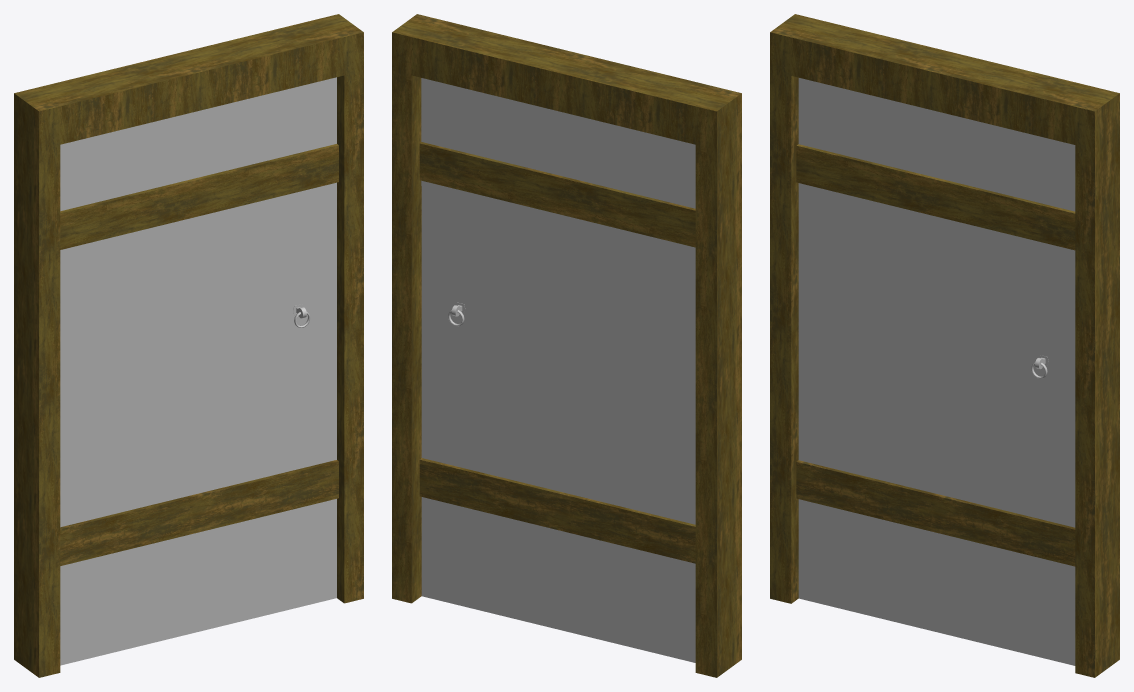
The model's file is Door.fbx.
The picture shows the model from 3 angles, left to right: view 1: azimuth 30°, elevation 25°; view 2: azimuth 150°, elevation 25°; view 3: azimuth 330°, elevation 25°; orthographic projection.
Parts seen in each view (by area): view 1: Door_Open_Door2, Door_Open_Frame; view 2: Door_Open_Door2, Door_Open_Frame; view 3: Door_Open_Door2, Door_Open_Frame.
Boxes of the visible parts, x1,y1,x2,y2 form: Door_Open_Door2: (60, 77, 338, 665); Door_Open_Frame: (14, 14, 363, 677); Door_Open_Door2: (419, 78, 695, 662); Door_Open_Frame: (392, 14, 741, 677); Door_Open_Door2: (796, 78, 1075, 665); Door_Open_Frame: (770, 14, 1119, 677).
Size of the model in its own units: 188 by 313 by 25.
